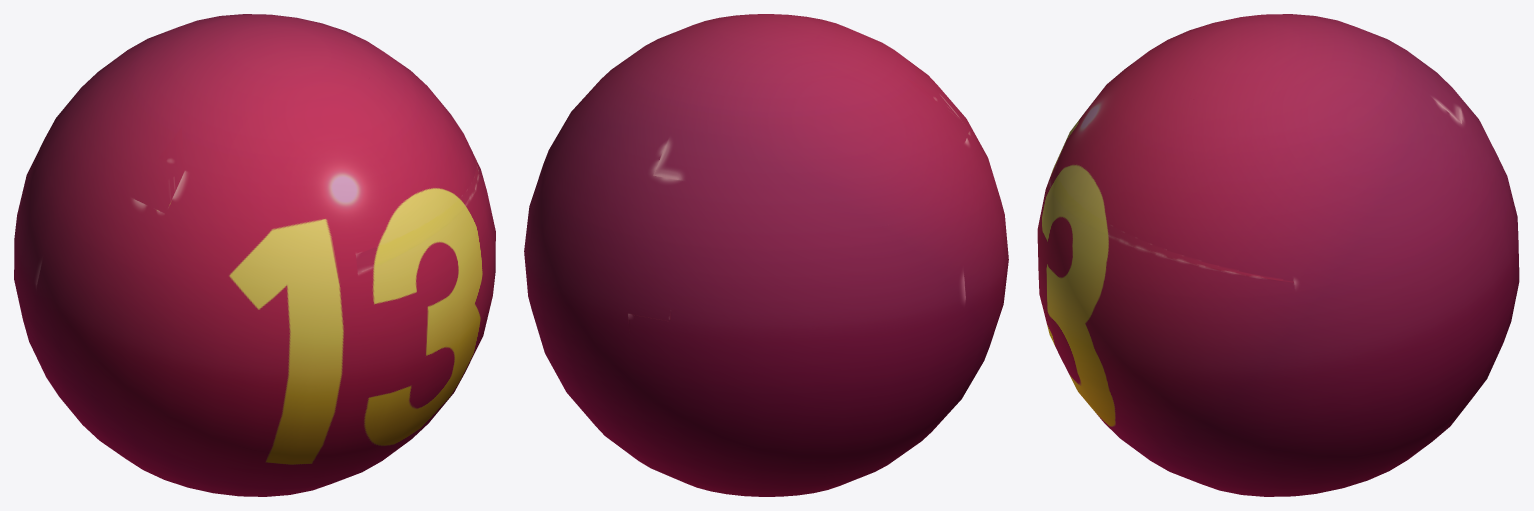
File: Enemy 13.fbx
The picture shows the model from 3 angles, left to right: view 1: azimuth 30°, elevation 25°; view 2: azimuth 150°, elevation 25°; view 3: azimuth 270°, elevation 25°; orthographic projection.
Visible parts, largest first — view 1: Body 1.012; view 2: Body 1.012; view 3: Body 1.012.
Boxes of the visible parts, x1,y1,x2,y2 form: Body 1.012: (14,14,495,496); Body 1.012: (524,14,1008,496); Body 1.012: (1037,14,1519,496).
Bounding box in the file's own units: 472 × 474 × 472.
Materials: 1 (1 with a texture image).
